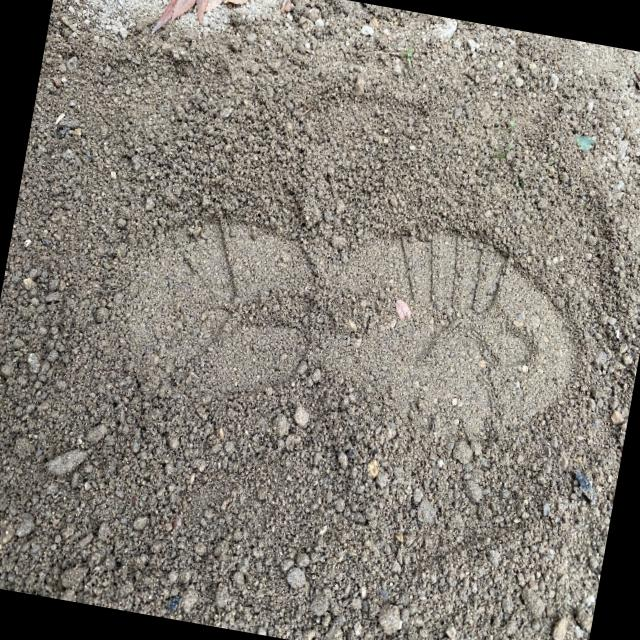human_foot_print: (99, 169, 612, 453)
